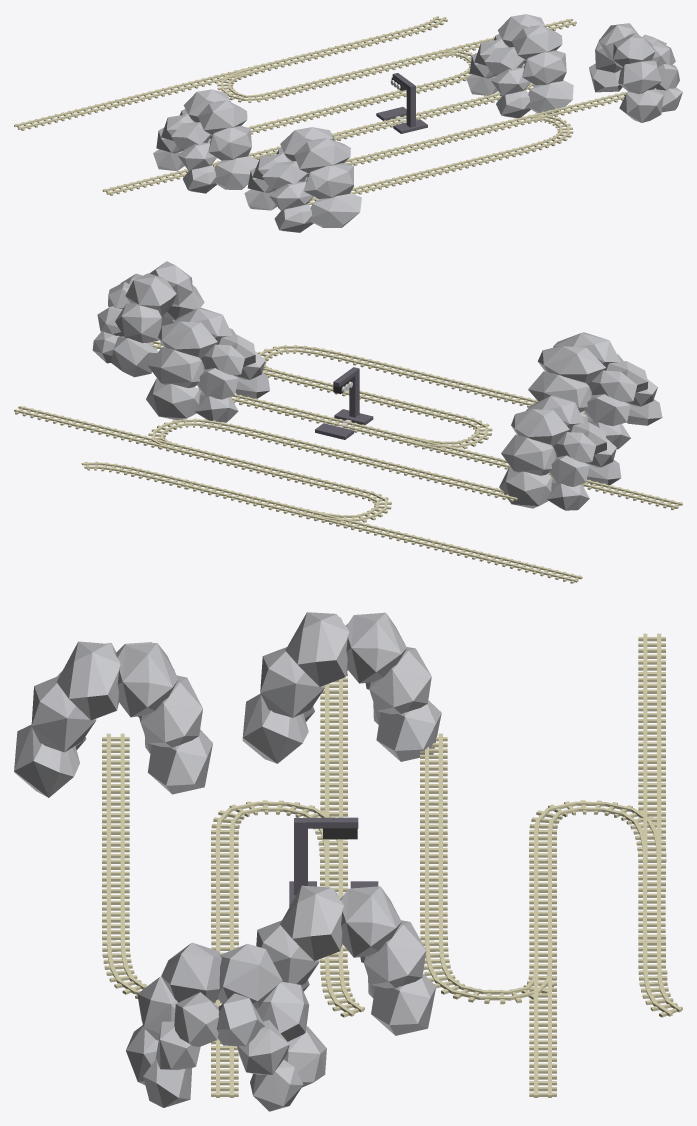
The picture shows the model from 3 angles, top to bottom: view 1: azimuth 30°, elevation 25°; view 2: azimuth 150°, elevation 25°; view 3: azimuth 270°, elevation 25°; orthographic projection. The views are drawn at different scales.
Visible parts, largest first — view 1: Sphere.002, MainRail.002, Sphere.004, Sphere.003, MainRail.001, Sphere.001, Station; view 2: MainRail.002, Sphere.004, Sphere.003, Sphere.002, MainRail.001, Sphere.001, Station; view 3: MainRail.002, Sphere.001, MainRail.001, Sphere.002, Sphere.003, Sphere.004, Station.
Part boxes in pixels (x1=…): Sphere.002: x1=244, y1=127, x2=361, y2=232; MainRail.002: x1=14, y1=16, x2=576, y2=134; Sphere.004: x1=466, y1=14, x2=573, y2=118; Sphere.003: x1=153, y1=89, x2=258, y2=193; MainRail.001: x1=102, y1=83, x2=628, y2=208; Sphere.001: x1=589, y1=23, x2=682, y2=122; Station: x1=376, y1=73, x2=427, y2=133; MainRail.002: x1=14, y1=406, x2=582, y2=583; Sphere.004: x1=146, y1=307, x2=269, y2=422; Sphere.003: x1=499, y1=395, x2=621, y2=510; Sphere.002: x1=528, y1=332, x2=662, y2=449; MainRail.001: x1=150, y1=341, x2=682, y2=509; Sphere.001: x1=92, y1=261, x2=204, y2=377; Station: x1=315, y1=367, x2=373, y2=439; MainRail.002: x1=420, y1=633, x2=682, y2=1097; Sphere.001: x1=126, y1=942, x2=326, y2=1111; MainRail.001: x1=102, y1=670, x2=364, y2=1097; Sphere.002: x1=14, y1=641, x2=212, y2=797; Sphere.003: x1=242, y1=612, x2=441, y2=763; Sphere.004: x1=256, y1=885, x2=436, y2=1035; Station: x1=289, y1=817, x2=378, y2=906.
Bounding box in the file's own units: 7983 × 1115 × 4839.
